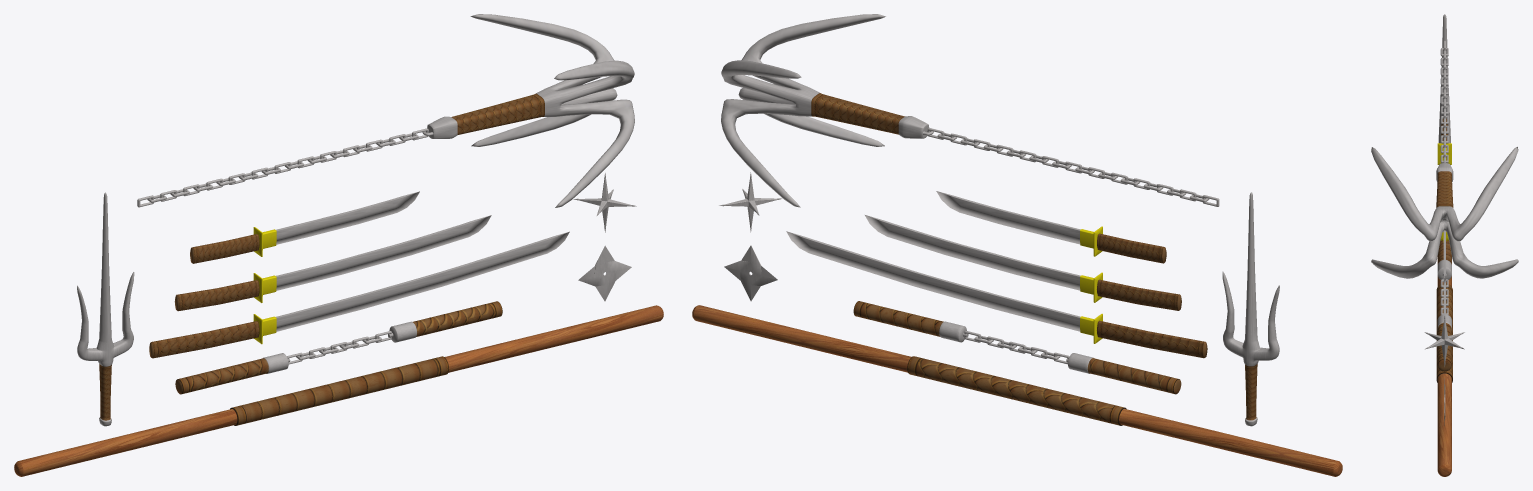
File: Weapon Set.fbx
3 renders of one model, left to right at view 1: azimuth 30°, elevation 25°; view 2: azimuth 150°, elevation 25°; view 3: azimuth 270°, elevation 25°, orthographic. The views are drawn at different scales.
Visible parts, largest first — view 1: Bo Staff, Grappling Hook, Katana L, Katana M, Katana S, Sai, Cylinder002, Cylinder001, Shuriken; view 2: Bo Staff, Grappling Hook, Katana L, Katana M, Katana S, Sai, Cylinder002, Cylinder001, Shuriken; view 3: Grappling Hook, Bo Staff, Cylinder001, Sai, Caltrop, Cylinder002, Katana S, Katana L.
Part boxes in pixels (x1,y1,x2,y2): Bo Staff: [14, 305, 663, 476]; Grappling Hook: [422, 14, 634, 207]; Katana L: [149, 231, 569, 358]; Katana M: [174, 215, 491, 311]; Katana S: [190, 191, 419, 263]; Sai: [77, 192, 134, 426]; Cylinder002: [175, 353, 290, 394]; Cylinder001: [388, 301, 502, 342]; Shuriken: [578, 245, 631, 301]; Bo Staff: [692, 305, 1342, 476]; Grappling Hook: [721, 14, 933, 207]; Katana L: [786, 231, 1207, 358]; Katana M: [865, 215, 1181, 310]; Katana S: [936, 191, 1166, 263]; Sai: [1222, 192, 1279, 426]; Cylinder002: [1066, 353, 1181, 394]; Cylinder001: [853, 301, 968, 342]; Shuriken: [724, 245, 777, 301]; Grappling Hook: [1371, 147, 1518, 278]; Bo Staff: [1436, 255, 1452, 476]; Cylinder001: [1437, 314, 1451, 371]; Sai: [1438, 14, 1450, 143]; Caltrop: [1424, 314, 1464, 366]; Cylinder002: [1437, 240, 1451, 279]; Katana S: [1437, 118, 1451, 164]; Katana L: [1440, 232, 1448, 321].
Size of the model in its own units: 119 by 55.07 by 27.22.
5 materials, 5 textured.
